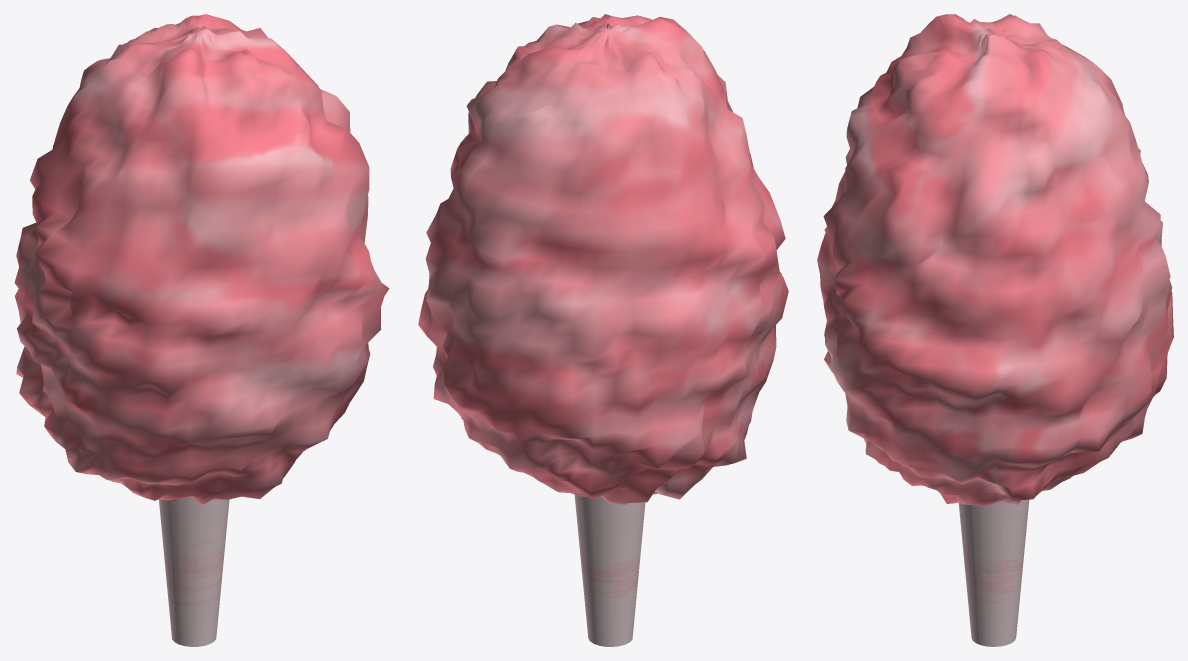
Rendered from Arbol3R.fbx.
The picture shows the model from 3 angles, left to right: view 1: azimuth 30°, elevation 25°; view 2: azimuth 150°, elevation 25°; view 3: azimuth 270°, elevation 25°; orthographic projection.
Parts seen in each view (by area): view 1: boom_2; view 2: boom_2; view 3: boom_2.
Part boxes in pixels (bbox=[...]): boom_2: bbox=[14, 14, 389, 646]; boom_2: bbox=[418, 14, 788, 646]; boom_2: bbox=[817, 14, 1173, 646].
Size of the model in its own units: 50.19 by 89.11 by 47.33.
1 material, 1 textured.
